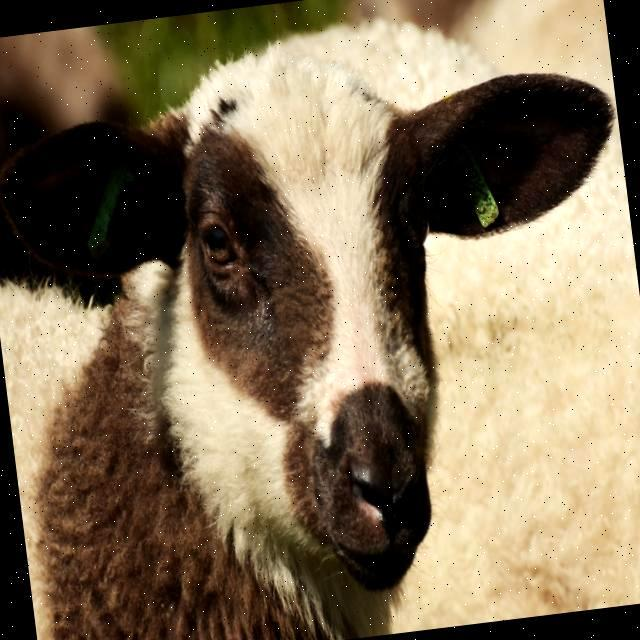sheep: (358, 25, 640, 629)
